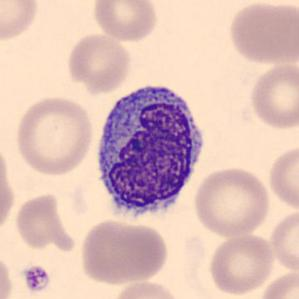Monocyte: (88, 74, 211, 228)
Platelets: (21, 263, 52, 294)
RBC: (12, 94, 96, 177), (78, 217, 170, 286), (191, 165, 272, 238), (206, 231, 276, 297), (226, 1, 297, 66), (12, 189, 80, 254), (65, 31, 133, 95), (246, 61, 299, 132), (90, 0, 160, 42), (266, 142, 299, 214), (268, 208, 298, 274), (0, 0, 40, 43), (0, 140, 17, 239), (109, 278, 184, 299), (257, 268, 297, 299), (0, 251, 14, 299)
